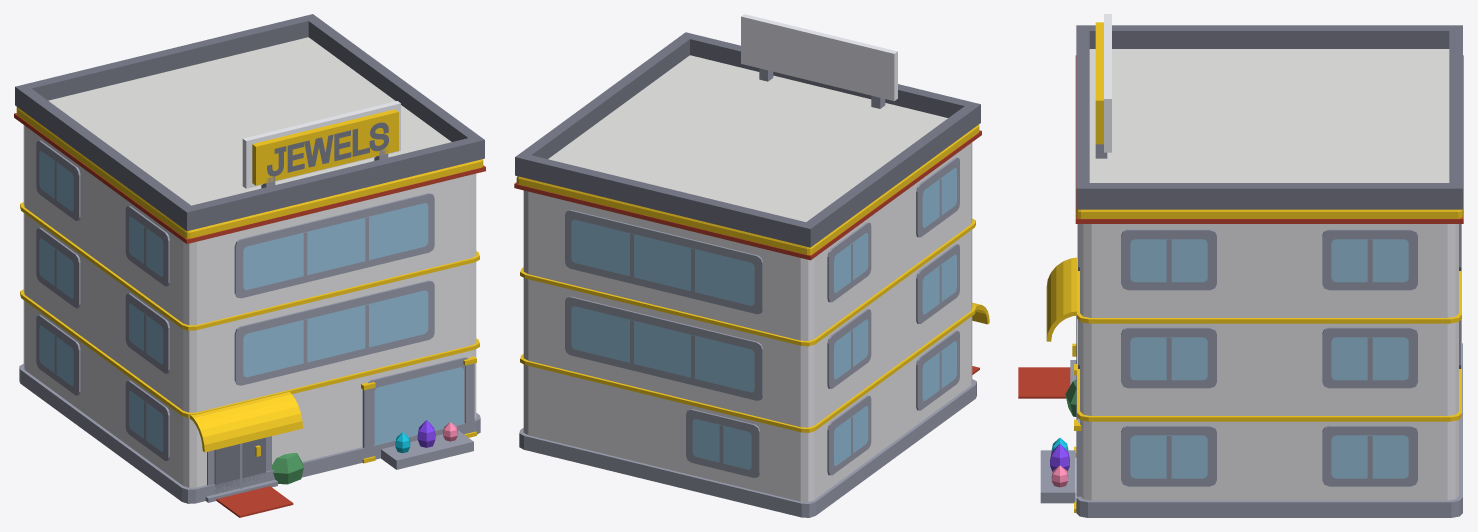
File: shop-luxury-1x1-t3-tone-a.glb
The picture shows the model from 3 angles, left to right: view 1: azimuth 30°, elevation 25°; view 2: azimuth 150°, elevation 25°; view 3: azimuth 270°, elevation 25°; orthographic projection. The views are drawn at different scales.
Visible parts, largest first — view 1: shop-luxury-1x1-t3-tone-a; view 2: shop-luxury-1x1-t3-tone-a; view 3: shop-luxury-1x1-t3-tone-a.
Part boxes in pixels (x1,y1,x2,y2): shop-luxury-1x1-t3-tone-a: [14, 14, 485, 517]; shop-luxury-1x1-t3-tone-a: [514, 14, 989, 517]; shop-luxury-1x1-t3-tone-a: [1018, 14, 1463, 517].
Bounding box in the file's own units: 1 × 1.08 × 1.15.
Materials: 1 (1 with a texture image).
